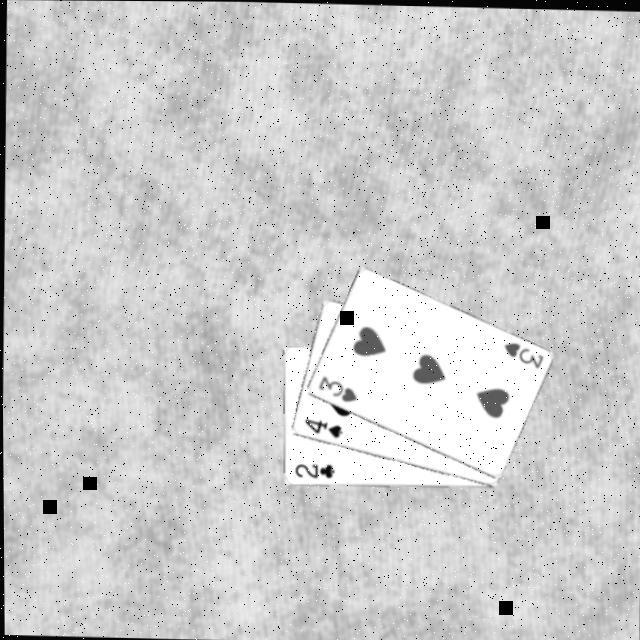2C: (291, 461, 337, 482)
3H: (314, 372, 360, 405), (499, 339, 546, 371)
4S: (301, 416, 344, 441)
